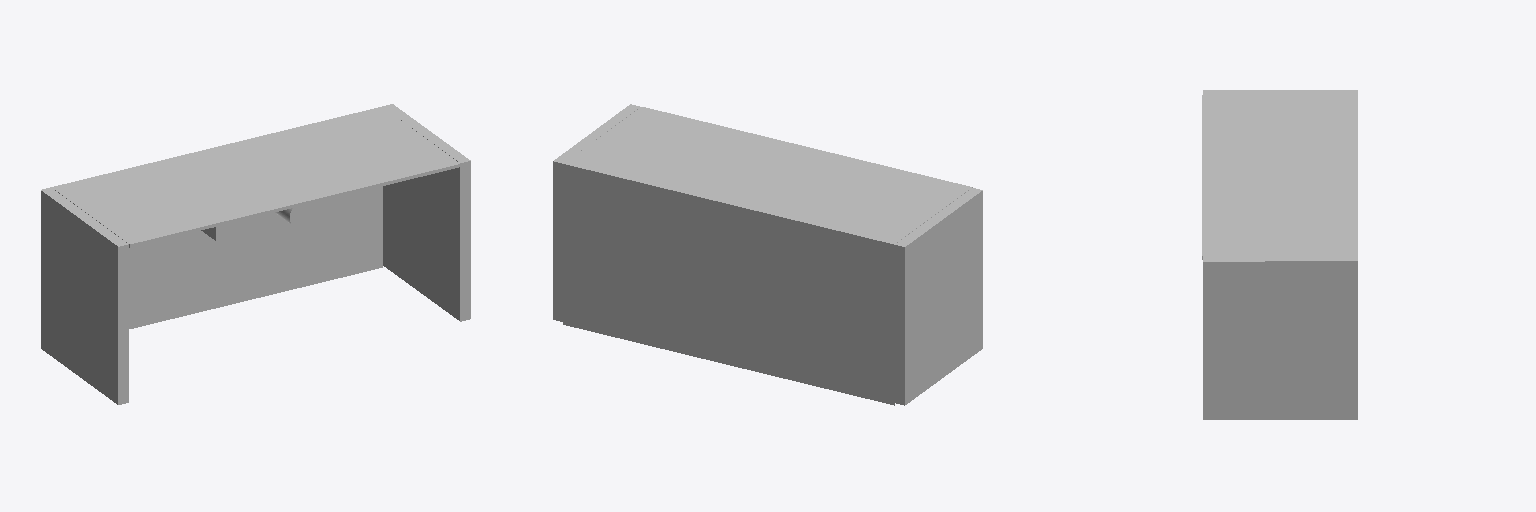
The model's file is Alice's Room.obj.
The picture shows the model from 3 angles: view 1: azimuth 30°, elevation 25°; view 2: azimuth 150°, elevation 25°; view 3: azimuth 270°, elevation 25°; orthographic projection.
Parts seen in each view (by area): view 1: Object.1, Object.2, Object.3, Object.4, Object.5, Object.8; view 2: Object.2, Object.1, Object.3, Object.4, Object.10; view 3: Object.4, Object.1, Object.3.
Boxes of the visible parts, box(x1,y1,x2,y2) form: Object.1: box(52, 107, 460, 247); Object.2: box(51, 108, 382, 328); Object.3: box(41, 187, 128, 404); Object.4: box(382, 104, 470, 321); Object.5: box(209, 213, 288, 240); Object.8: box(275, 204, 313, 227); Object.2: box(563, 164, 894, 405); Object.1: box(564, 107, 972, 247); Object.3: box(895, 188, 982, 405); Object.4: box(553, 104, 639, 321); Object.10: box(695, 222, 748, 270); Object.4: box(1203, 256, 1357, 419); Object.1: box(1202, 95, 1357, 259); Object.3: box(1203, 90, 1357, 94).
Size of the model in its own units: 1345 by 587 by 518.